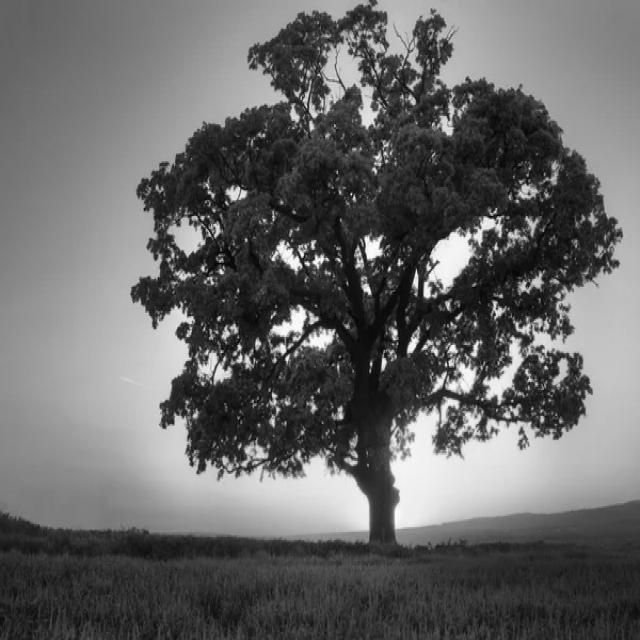Tree: (131, 3, 623, 544)
